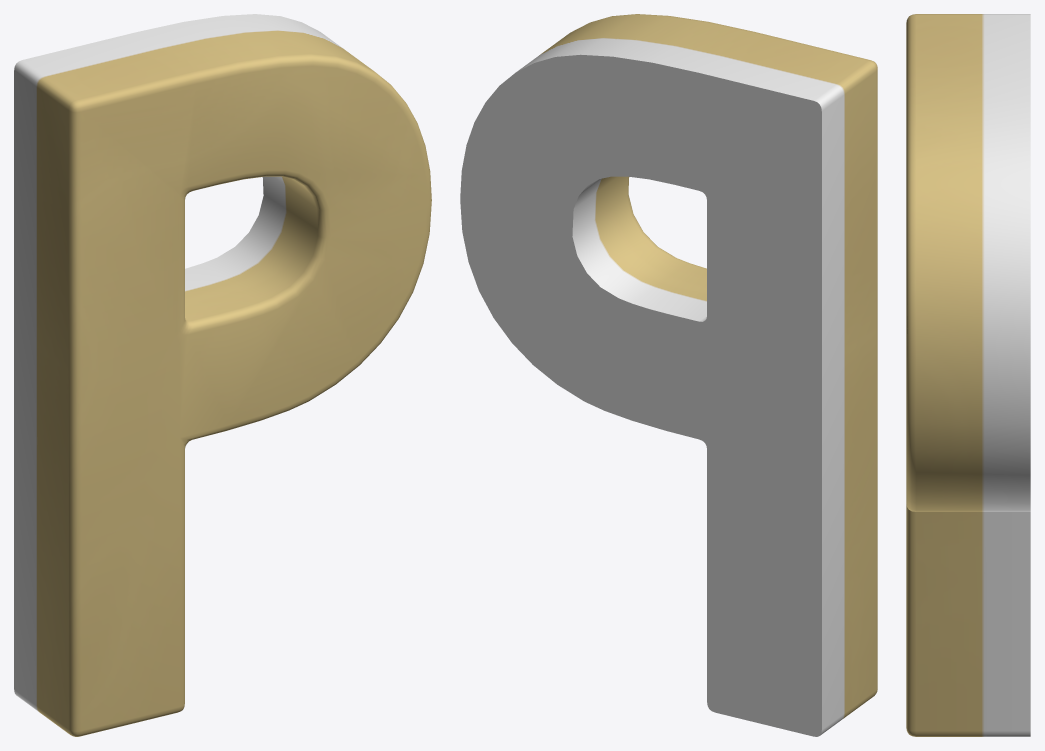
Rendered from LettersLightUp01_P.FBX.
3 views of the same model, side by side, from view 1: azimuth 30°, elevation 25°; view 2: azimuth 150°, elevation 25°; view 3: azimuth 270°, elevation 25° (orthographic). The views are drawn at different scales.
Visible parts, largest first — view 1: LettersLightUp01_P; view 2: LettersLightUp01_P; view 3: LettersLightUp01_P.
Part boxes in pixels (x1=…): LettersLightUp01_P: x1=14, y1=14, x2=431, y2=736; LettersLightUp01_P: x1=460, y1=14, x2=877, y2=736; LettersLightUp01_P: x1=906, y1=14, x2=1030, y2=736.
Size of what is drawn, in the model's own units: 0.3572 by 0.6001 by 0.1012.
